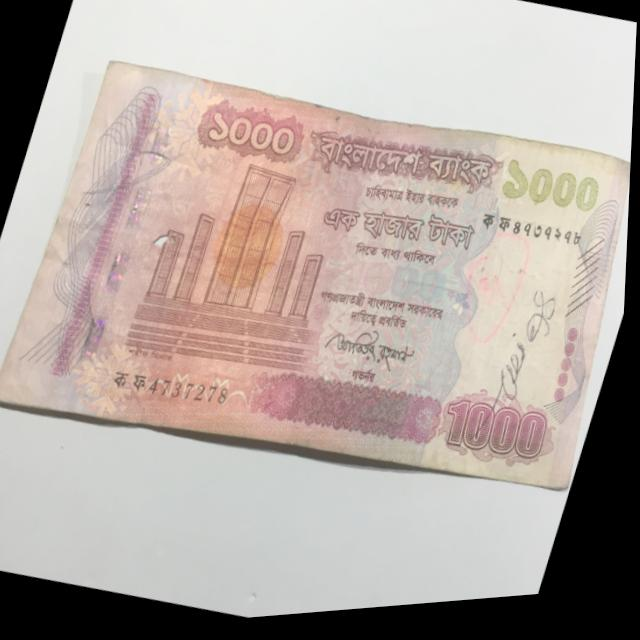Taka: (0, 4, 638, 553)
